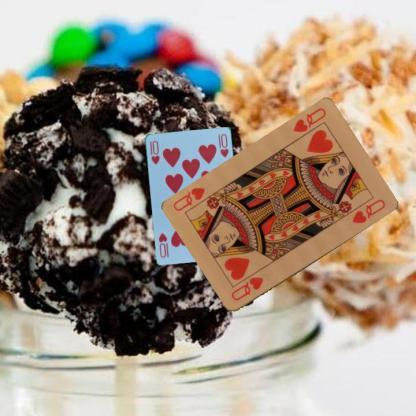10h: (146, 138, 160, 166)
Qh: (290, 105, 328, 134), (228, 274, 265, 303)
